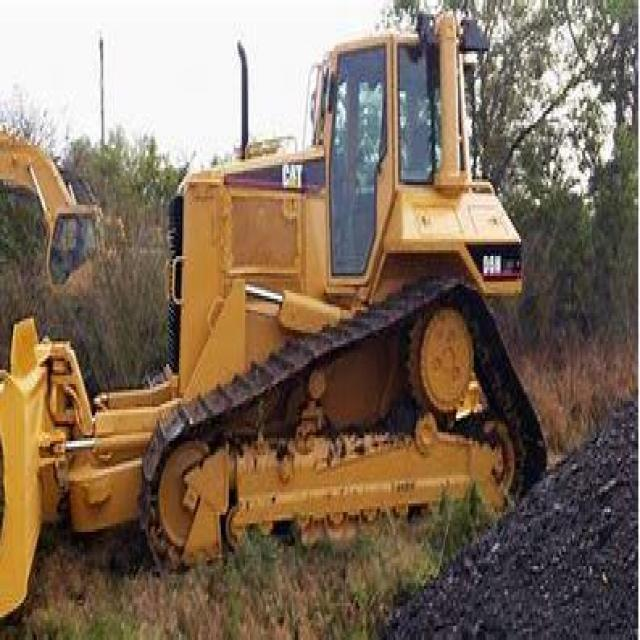Bulldozer: (8, 6, 563, 597)
